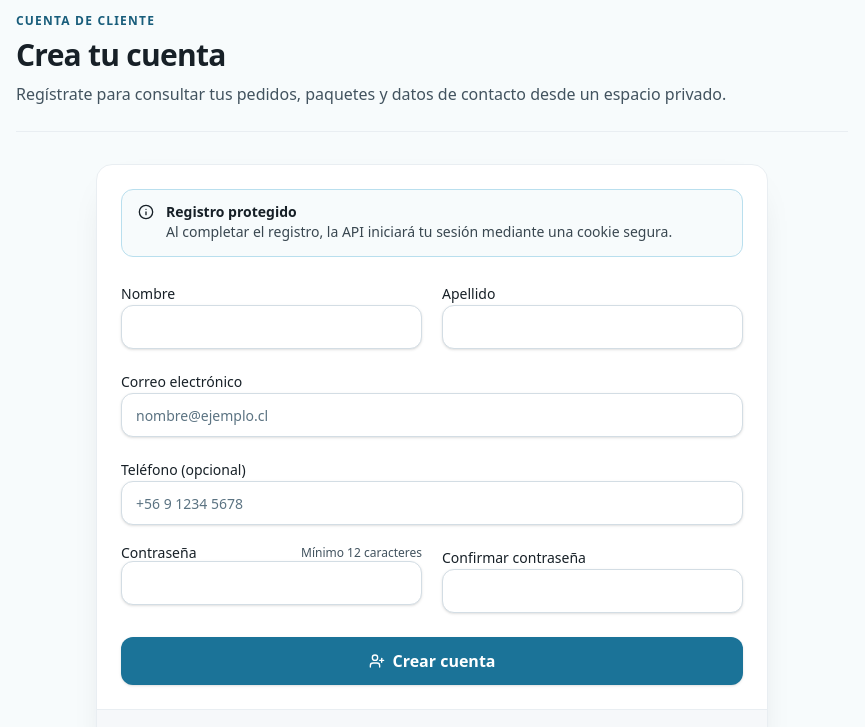
Scenario: RegisterPage › mantiene el formulario y anuncia un error de API
Expected: the heading "Crea tu cuenta" is shown, 16,34 -> 226,75
Type "Valentina" into the field labelled "Nombre" at {"x": 272, "y": 327}, box 121,305 -> 422,349
Type "Rojas" into the field labelled "Apellido" at {"x": 592, "y": 327}, box 442,305 -> 743,349
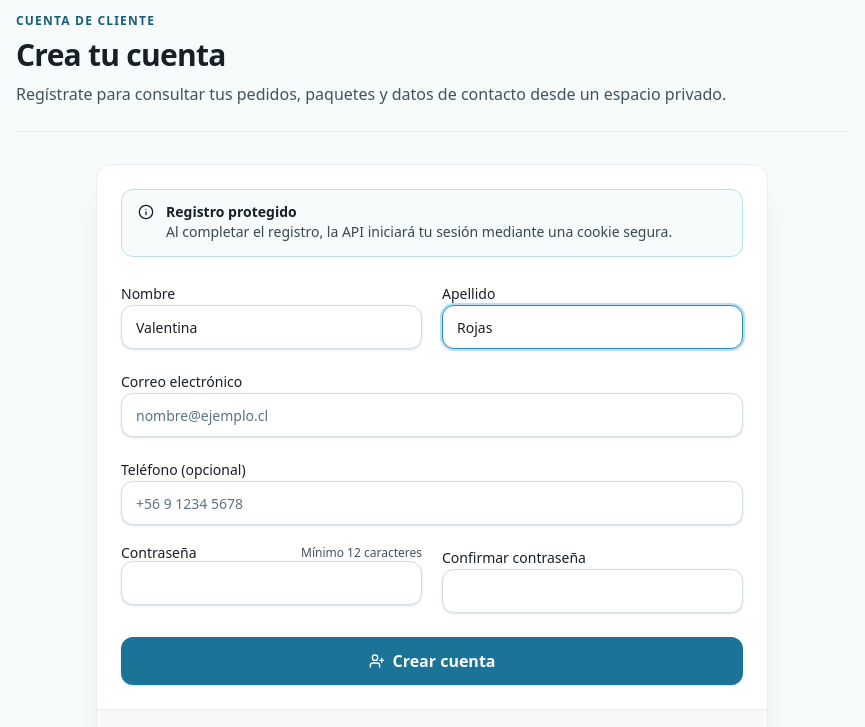
Type "valentina@example.cl" into the field labelled "Correo electrónico" at {"x": 432, "y": 415}, box 121,393 -> 743,437
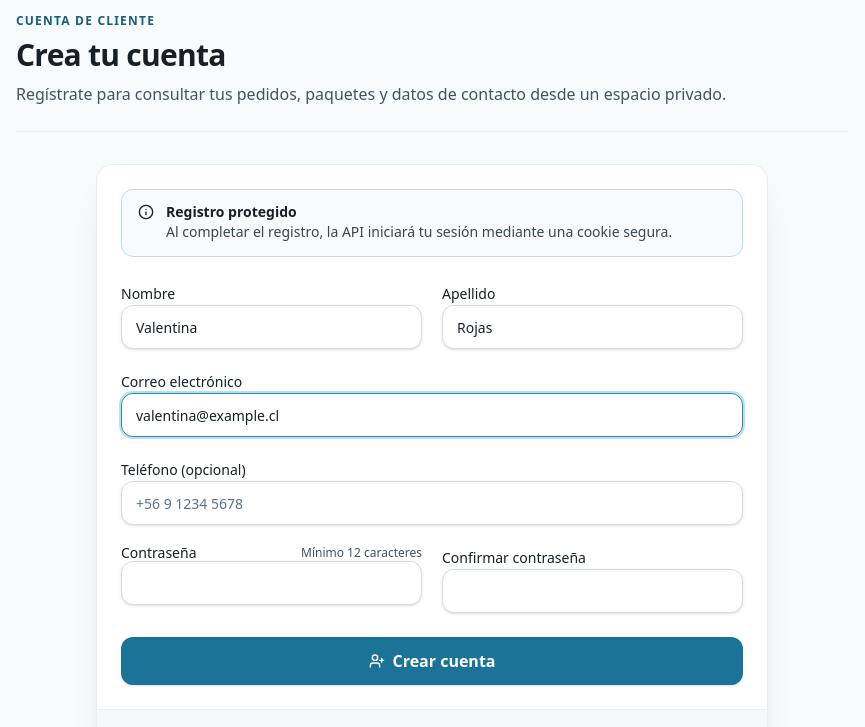
Type "+56912345678" into the field labelled "Teléfono (opcional)" at {"x": 432, "y": 503}, box 121,481 -> 743,525
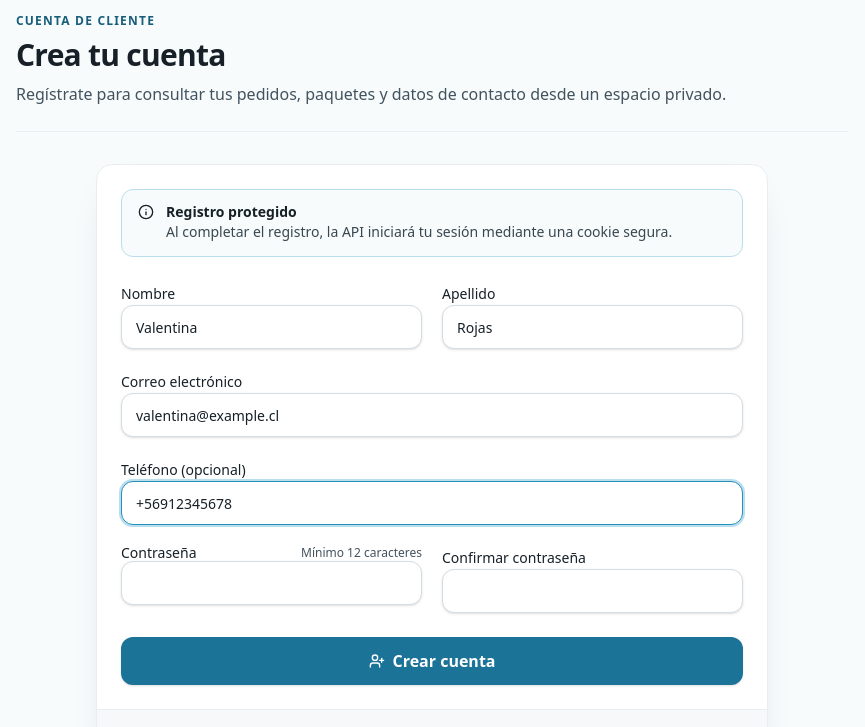
Type "una-clave-segura-123" into the password field labelled "Contraseña" at {"x": 272, "y": 583}, box 121,561 -> 422,605
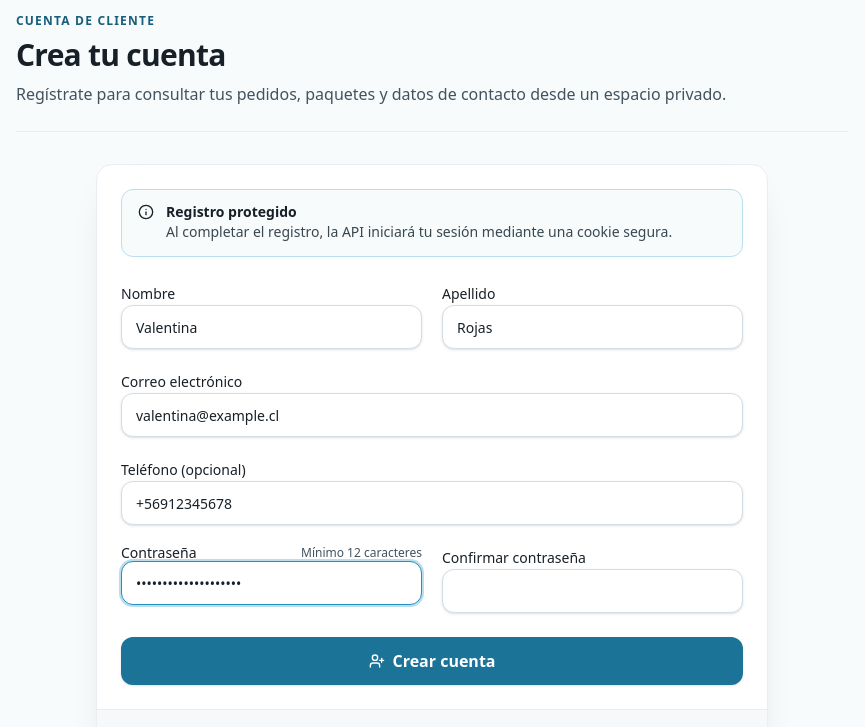
Type "una-clave-segura-123" into the password field labelled "Confirmar contraseña" at {"x": 592, "y": 591}, box 442,569 -> 743,613
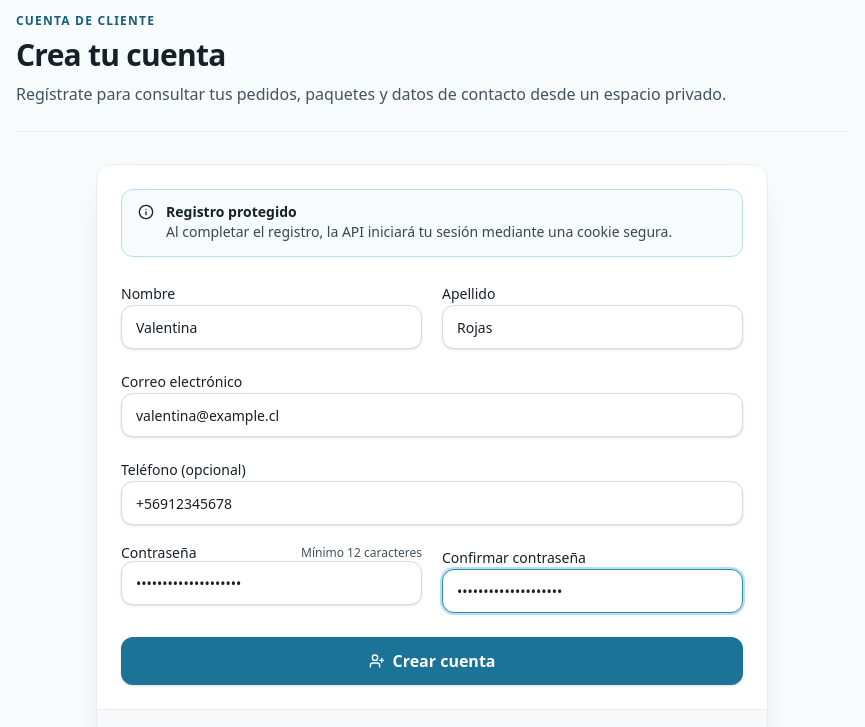
Click the button "Crear cuenta" at {"x": 432, "y": 661}, box 121,637 -> 743,685
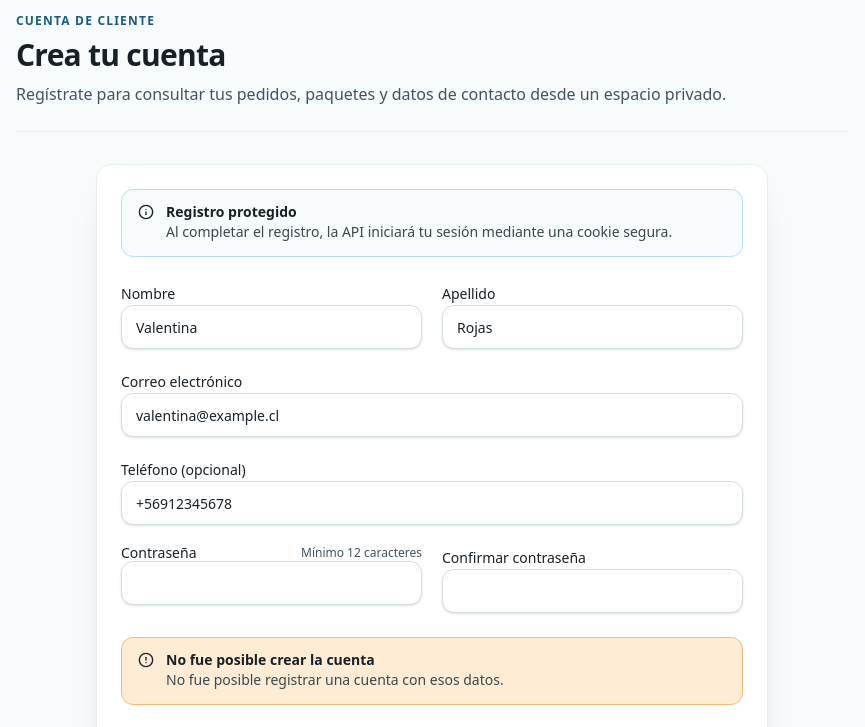
Result: the message shows "No fue posible crear la cuenta" at 166,650 -> 375,669
Result: the message shows "No fue posible registrar una cuenta con esos datos." at 166,670 -> 504,689
Result: the password field labelled "Contraseña" is empty at 121,561 -> 422,605
